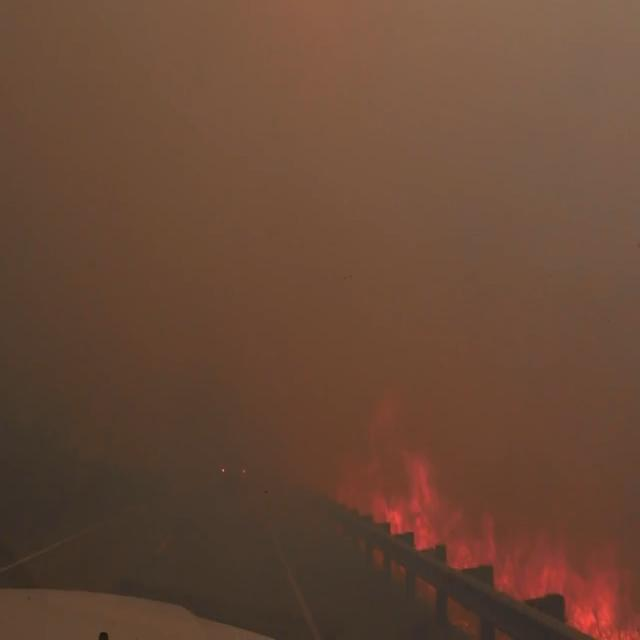Fire: (353, 416, 619, 634)
